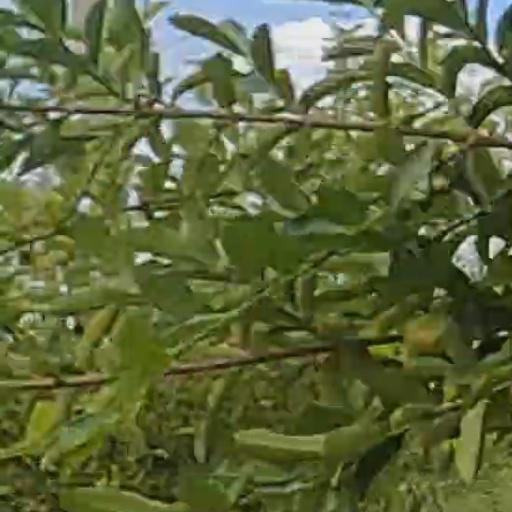acerola_verde: (405, 313, 447, 352)
